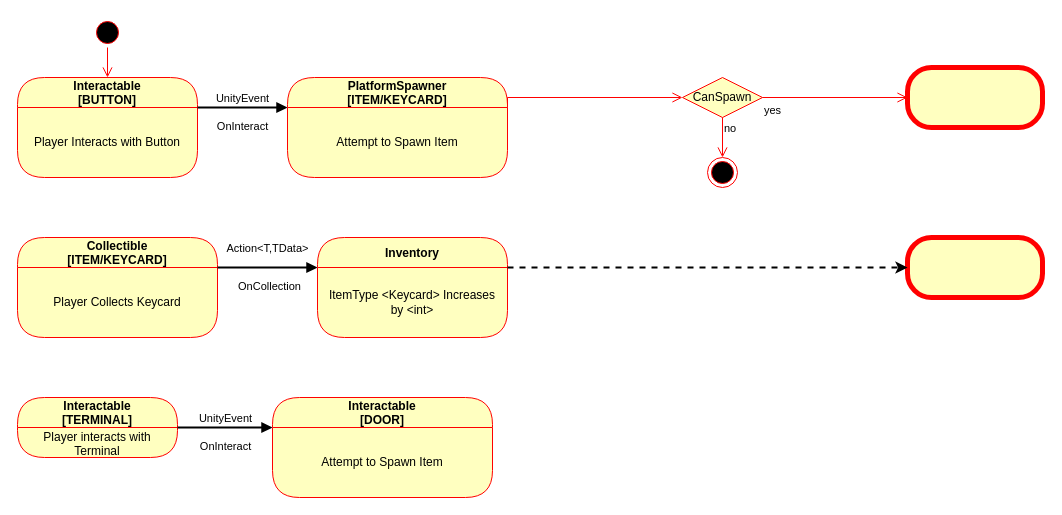
The diagram is 1062 pixels wide and 515 high, and some of its shapes have lost their labels. Each missing label, with the centre of its shape:
Item Spawns: pixel 974 97
Item[KEYCARD] Collected: pixel 974 267
